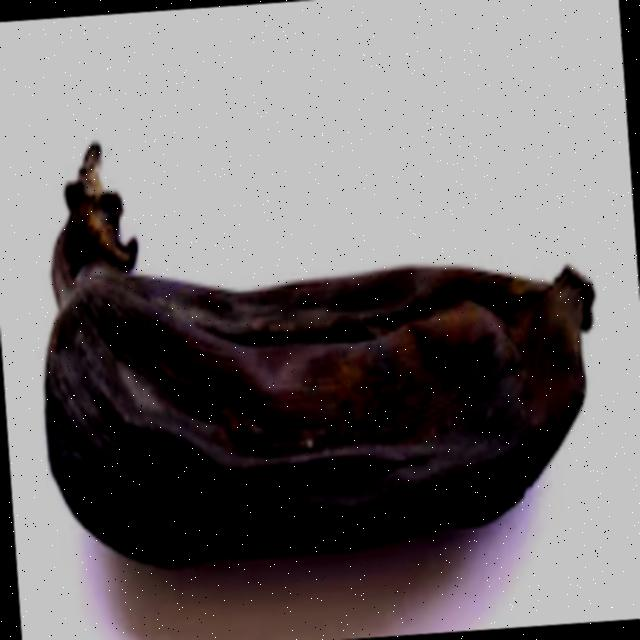Rotten: (19, 99, 624, 568)
